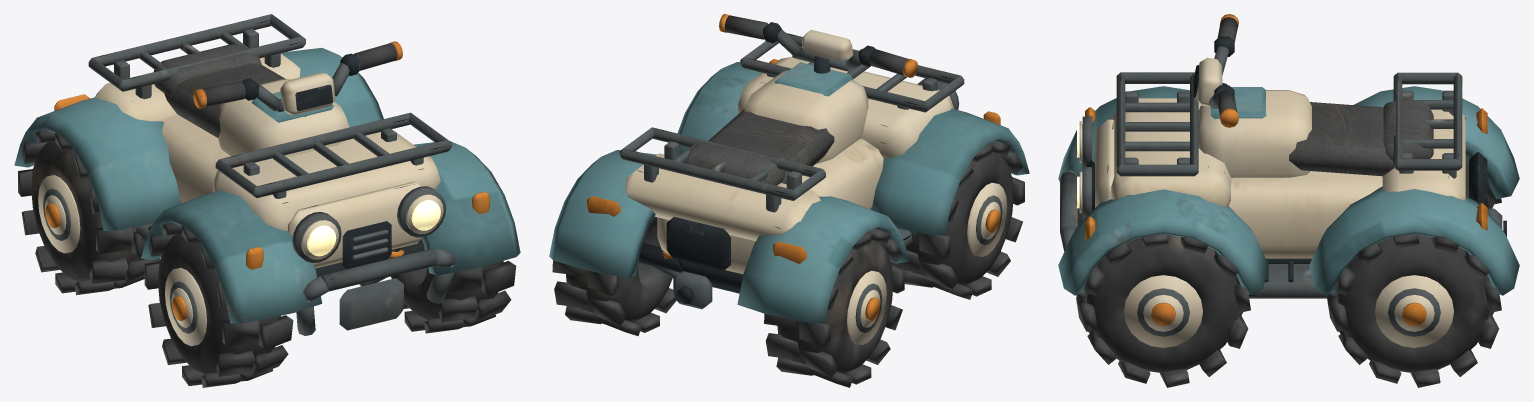
Rendered from atv.glb.
3 views of the same model, side by side, from view 1: azimuth 30°, elevation 25°; view 2: azimuth 150°, elevation 25°; view 3: azimuth 270°, elevation 25° (orthographic). The views are drawn at different scales.
Visible parts, largest first — view 1: SM_ATV_Trail; view 2: SM_ATV_Trail; view 3: SM_ATV_Trail.
Boxes of the visible parts, bbox=[...] form: SM_ATV_Trail: bbox=[14, 14, 520, 387]; SM_ATV_Trail: bbox=[549, 14, 1029, 387]; SM_ATV_Trail: bbox=[1058, 14, 1519, 387].
Bounding box in the file's own units: 1.81 × 1.46 × 2.39.
Materials: 8 (8 with a texture image).
